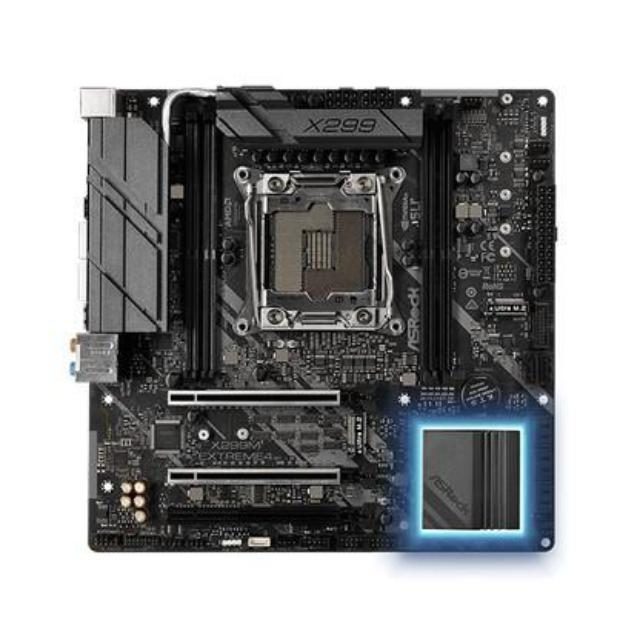Mainboard: (69, 76, 566, 564)
